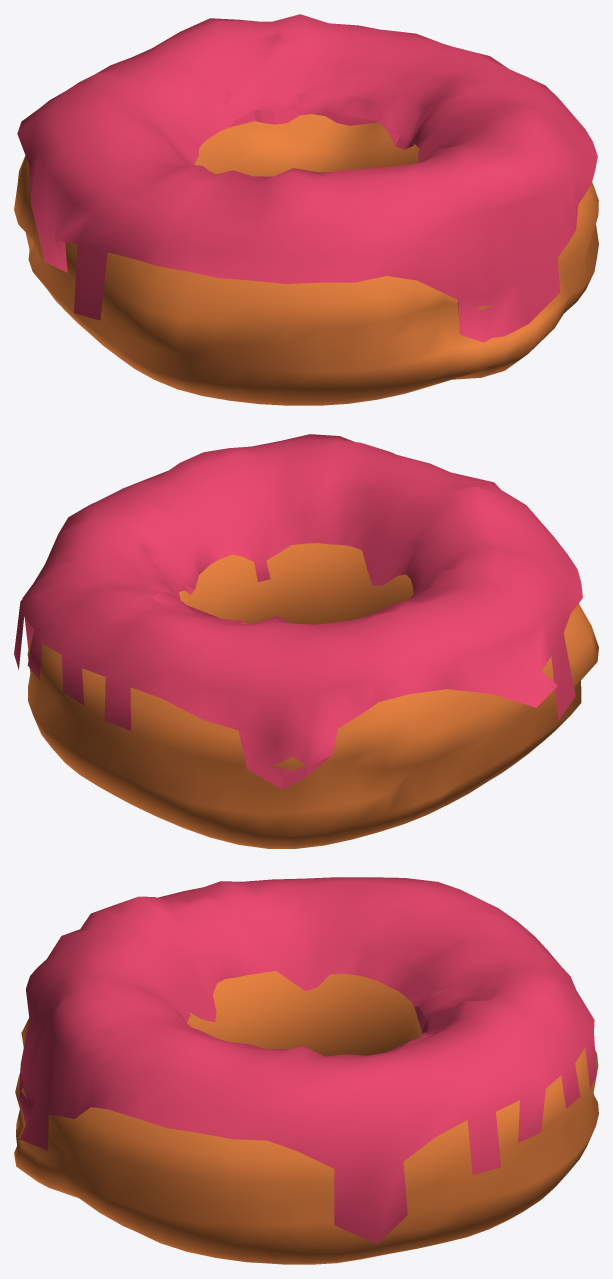
Rendered from donut.glb.
3 renders of one model, top to bottom at view 1: azimuth 30°, elevation 25°; view 2: azimuth 150°, elevation 25°; view 3: azimuth 270°, elevation 25°, orthographic. The views are drawn at different scales.
Visible parts, largest first — view 1: icing, donut; view 2: icing, donut; view 3: icing, donut.
Boxes of the visible parts, x1,y1,x2,y2 form: icing: (17, 14, 597, 342); donut: (14, 114, 598, 405); icing: (14, 434, 582, 789); donut: (27, 543, 598, 848); icing: (18, 877, 596, 1244); donut: (14, 971, 598, 1264).
Size of what is drawn, in the model's own units: 0.0959 by 0.0428 by 0.0959.
